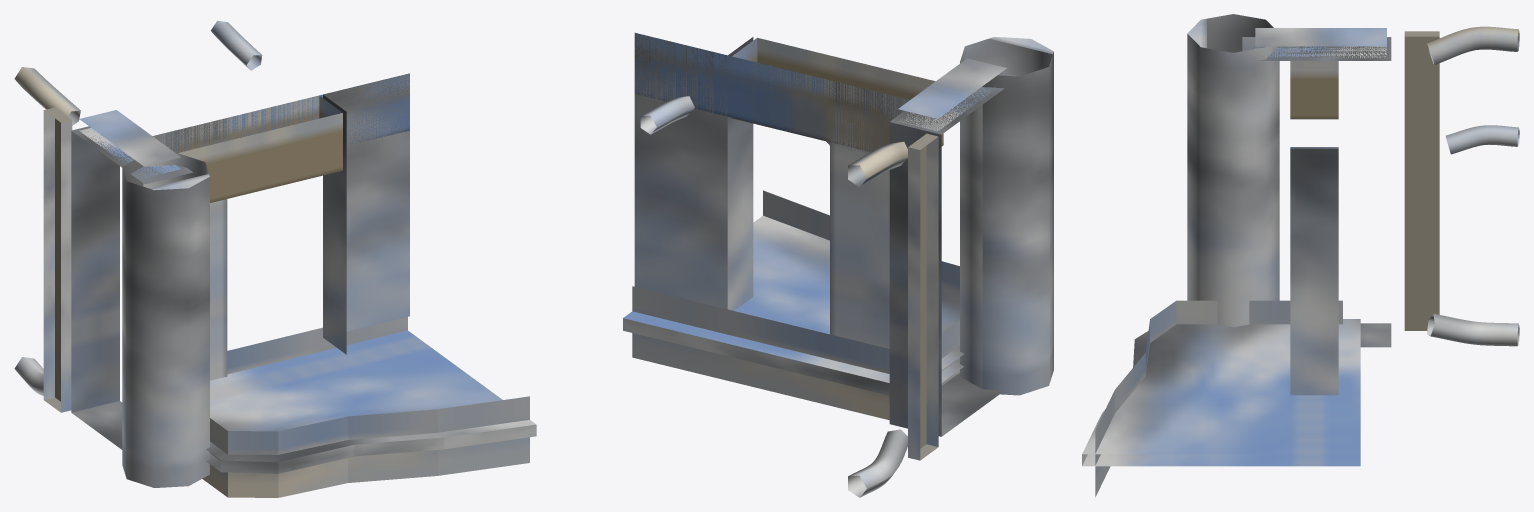
File: section-2.obj
The picture shows the model from 3 angles, left to right: view 1: azimuth 30°, elevation 25°; view 2: azimuth 150°, elevation 25°; view 3: azimuth 270°, elevation 25°; orthographic projection. The views are drawn at different scales.
Bounding box in the file's own units: 0.895 × 0.8086 × 0.998.
